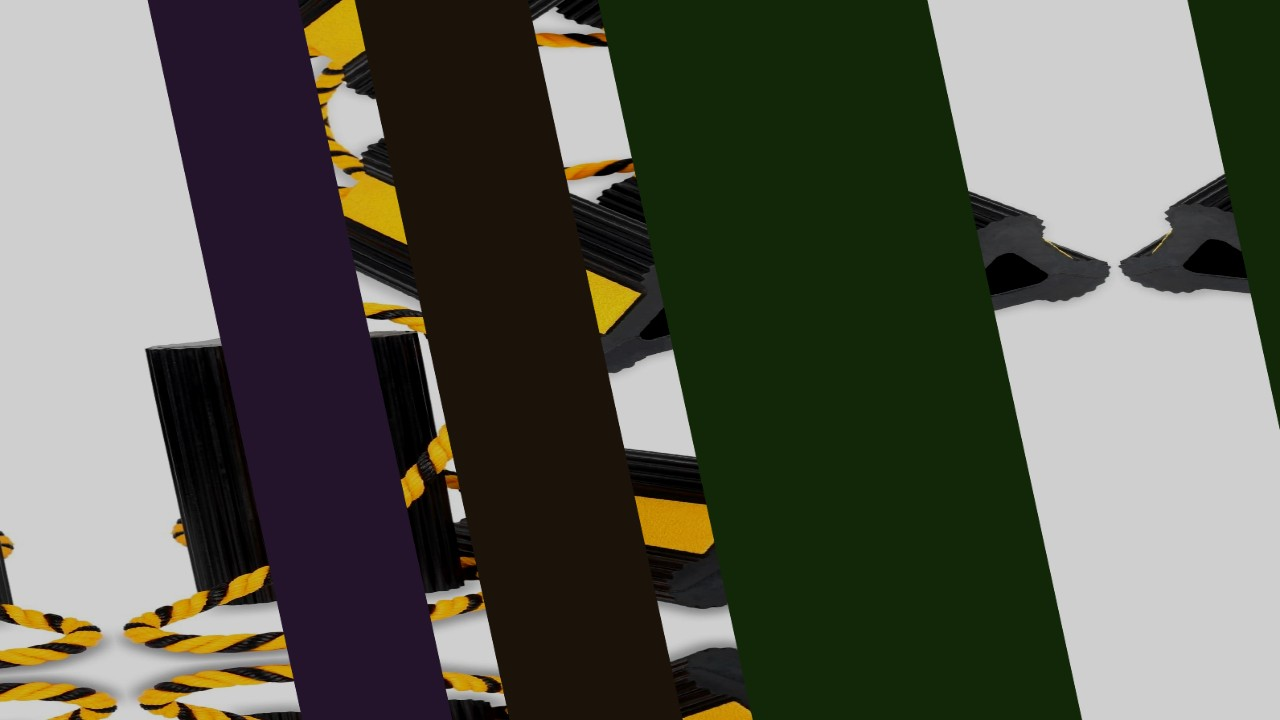chock: (576, 76, 1125, 367), (274, 109, 817, 399), (426, 412, 919, 628), (126, 318, 477, 610), (212, 0, 755, 110), (1078, 42, 1280, 333), (519, 0, 1068, 101), (473, 630, 966, 720)
